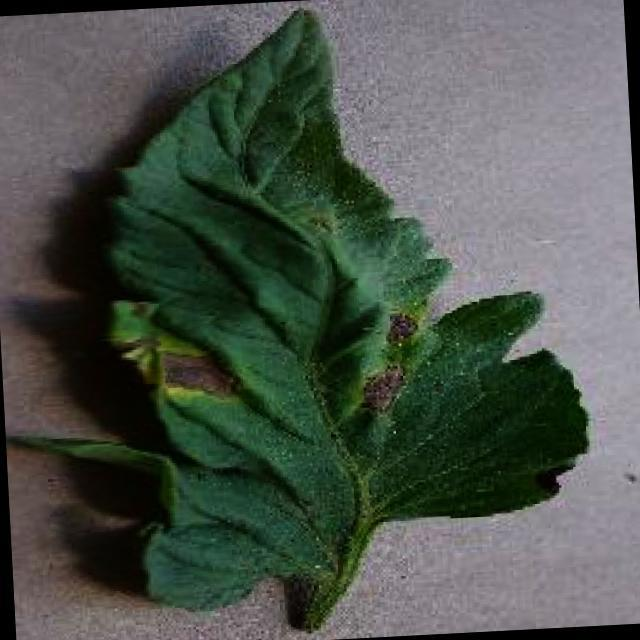Tomato Early blight leaf: (94, 0, 597, 607)
